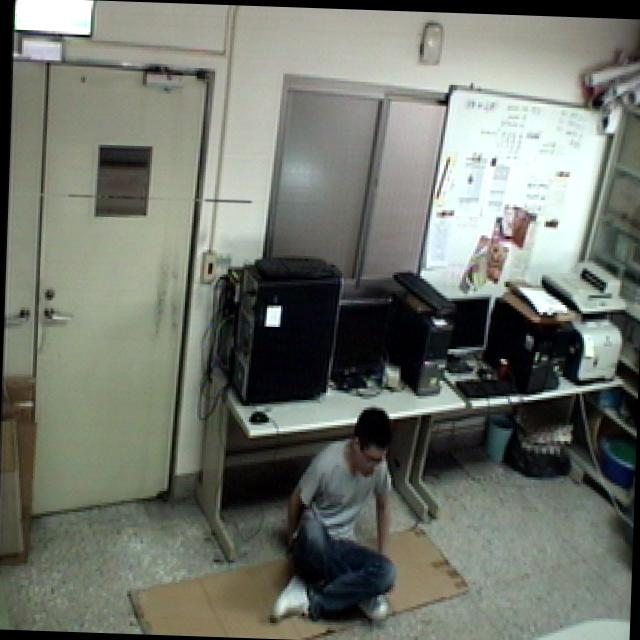sit: (266, 399, 408, 632)
